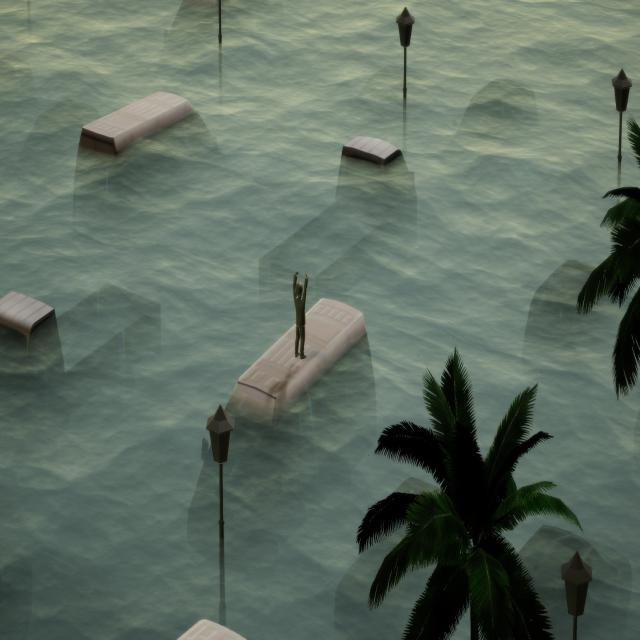Human: (288, 263, 311, 365)
